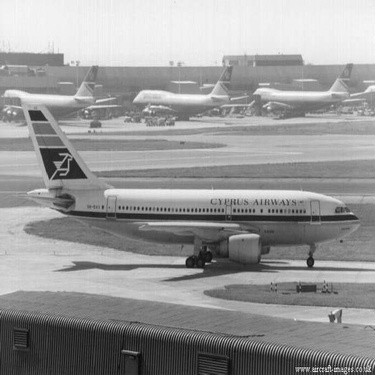airplane: (11, 90, 367, 283), (122, 55, 257, 135), (235, 55, 365, 127), (1, 67, 126, 132)
